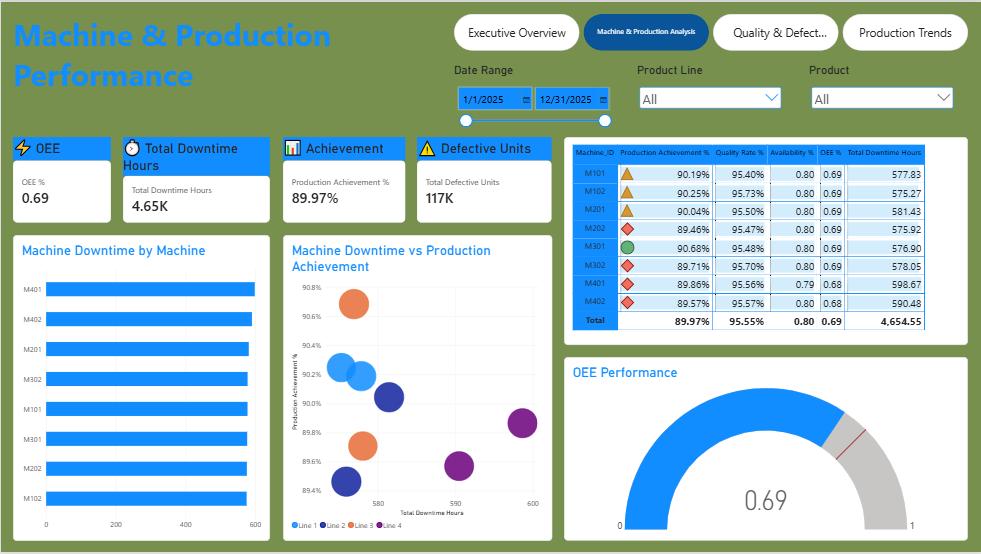

The page's visual inventory and layout, read from the dashboard file:
{"tool":"powerbi","page":{"name":"Machine & Production Analysis","canvas":[1920,1080],"ordinal":1},"visuals":[{"type":"slicer","title":"Date Range","fields":{"Values":["manufacturing_production_data.Date"]},"box":[888,120,312,144],"z":0},{"type":"slicer","title":"Product Line","fields":{"Values":["manufacturing_production_data.Production_Line"]},"box":[1248,120,288,120],"z":1000},{"type":"slicer","title":"Product","fields":{"Values":["manufacturing_production_data.Product"]},"box":[1584,120,288,120],"z":2000},{"type":"cardVisual","title":"⚠️ Defective Units","fields":{"Data":["manufacturing_production_data.Total Defective Units"]},"box":[816,264,264,168],"z":3000},{"type":"cardVisual","title":"📊 Achievement","fields":{"Data":["manufacturing_production_data.Production Achievement %"]},"box":[552,264,240,168],"z":4000},{"type":"cardVisual","title":"⚡ OEE","fields":{"Data":["manufacturing_production_data.OEE %"]},"box":[24,264,192,168],"z":5000},{"type":"cardVisual","title":"⏱️ Total Downtime Hours","fields":{"Data":["manufacturing_production_data.Total Downtime Hours"]},"box":[240,264,288,168],"z":6000},{"type":"pivotTable","fields":{"Rows":["manufacturing_production_data.Machine_ID"],"Values":["manufacturing_production_data.Production Achievement %","manufacturing_production_data.Quality Rate %","manufacturing_production_data.Availability %","manufacturing_production_data.OEE %","manufacturing_production_data.Total Downtime Hours"]},"box":[1104,264,792,408],"z":7000},{"type":"clusteredBarChart","title":"Machine Downtime by Machine","fields":{"Y":["manufacturing_production_data.Total Downtime Hours"],"Category":["manufacturing_production_data.Machine_ID"]},"box":[24,456,504,600],"z":8000},{"type":"scatterChart","title":"Machine Downtime vs Production Achievement","fields":{"X":["manufacturing_production_data.Total Downtime Hours"],"Y":["manufacturing_production_data.Production Achievement %"],"Series":["manufacturing_production_data.Production_Line"],"Size":["Sum(manufacturing_production_data.Defective_Units)"],"Category":["manufacturing_production_data.Machine_ID"]},"box":[552,456,528,600],"z":9000},{"type":"gauge","title":"OEE Performance","fields":{"Y":["manufacturing_production_data.OEE %"],"TargetValue":["manufacturing_production_data.OEE Target"],"MinValue":["manufacturing_production_data.Minimum"],"MaxValue":["manufacturing_production_data.Maximum"]},"box":[1104,696,792,360],"z":10000},{"type":"textbox","box":[24,24,888,168],"z":11000},{"type":"pageNavigator","box":[888,24,1008,72],"z":11001}]}

Visuals, with their boxes in screenshot pixels (x1, y1, x2, y2), scaled from the page's 1920x1080 canvas onto the 981x554 screenshot:
"Date Range" slicer: (x1=454, y1=62, x2=613, y2=135)
"Product Line" slicer: (x1=638, y1=62, x2=785, y2=123)
"Product" slicer: (x1=809, y1=62, x2=956, y2=123)
"⚠️ Defective Units" cardVisual: (x1=417, y1=135, x2=552, y2=222)
"📊 Achievement" cardVisual: (x1=282, y1=135, x2=405, y2=222)
"⚡ OEE" cardVisual: (x1=12, y1=135, x2=110, y2=222)
"⏱️ Total Downtime Hours" cardVisual: (x1=123, y1=135, x2=270, y2=222)
pivotTable - manufacturing_production_data.Machine_ID x manufacturing_production_data.Production Achievement %: (x1=564, y1=135, x2=969, y2=345)
"Machine Downtime by Machine" clusteredBarChart: (x1=12, y1=234, x2=270, y2=542)
"Machine Downtime vs Production Achievement" scatterChart: (x1=282, y1=234, x2=552, y2=542)
"OEE Performance" gauge: (x1=564, y1=357, x2=969, y2=542)
textbox: (x1=12, y1=12, x2=466, y2=98)
pageNavigator: (x1=454, y1=12, x2=969, y2=49)
